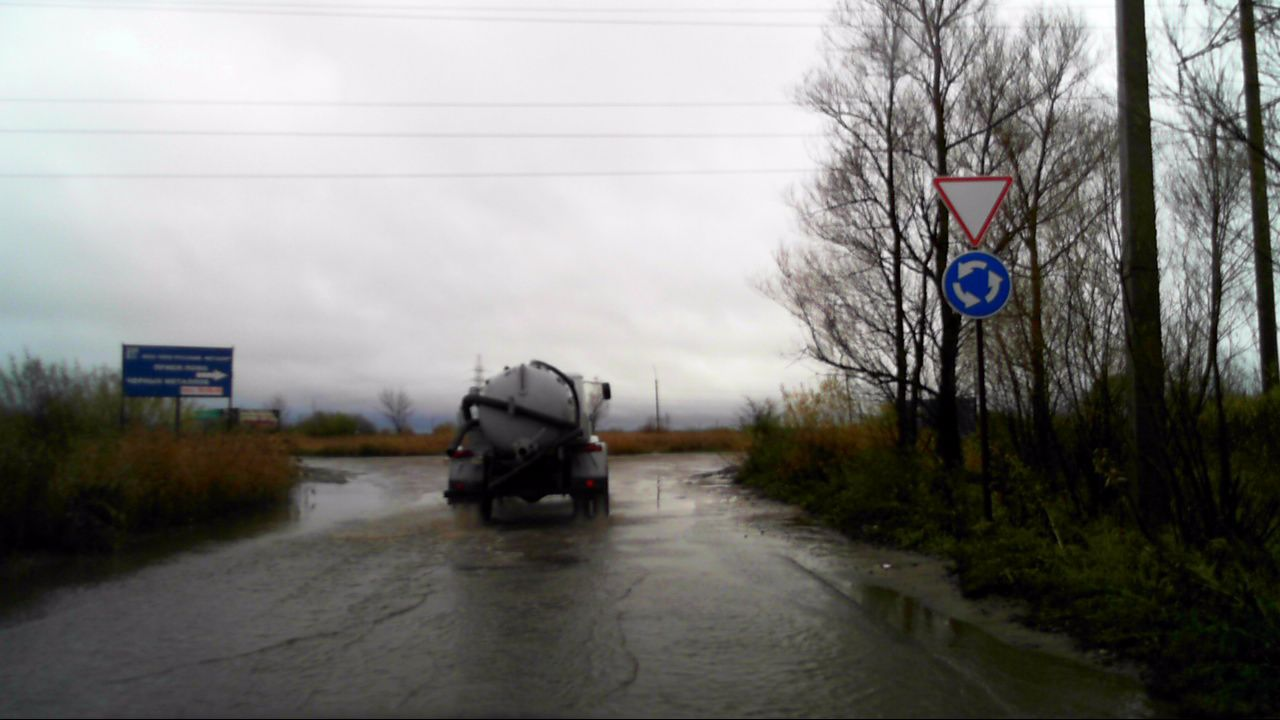Round-About: (941, 250, 1013, 321)
